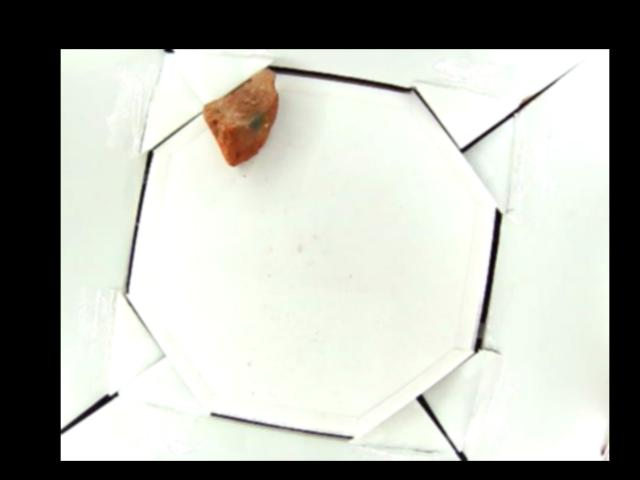Brisk: (202, 68, 279, 166)
